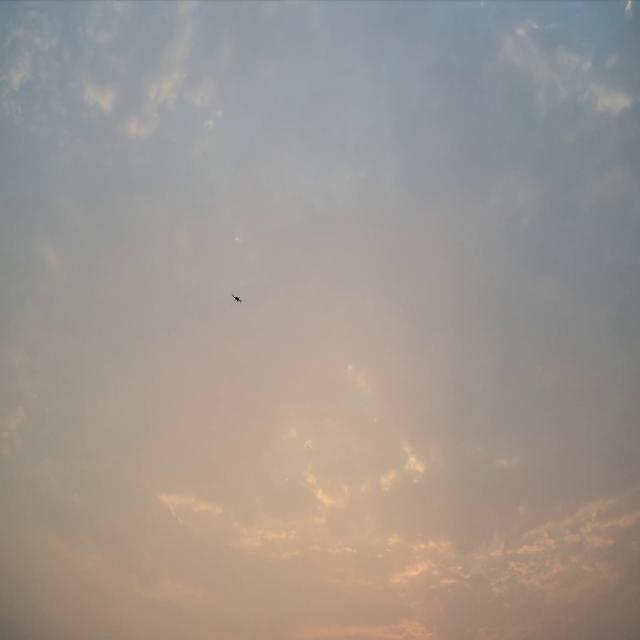UAV: (231, 294, 241, 304)
